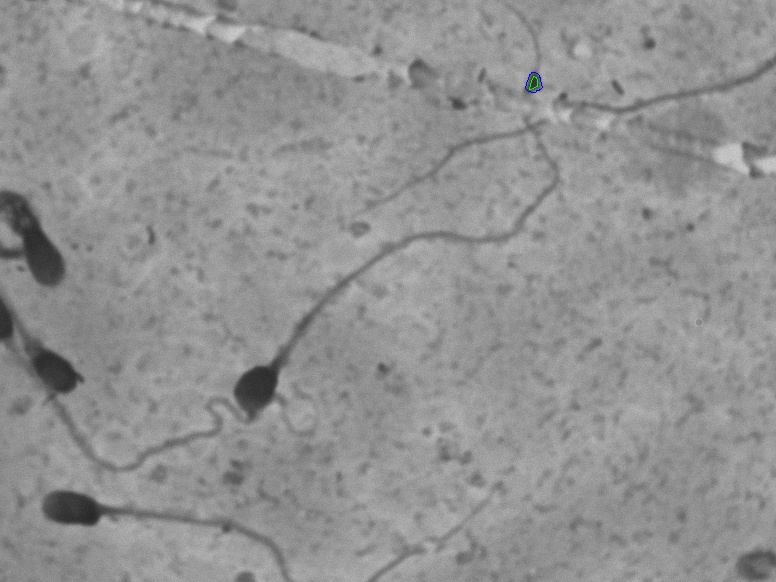Abnormal: (210, 127, 569, 419)
